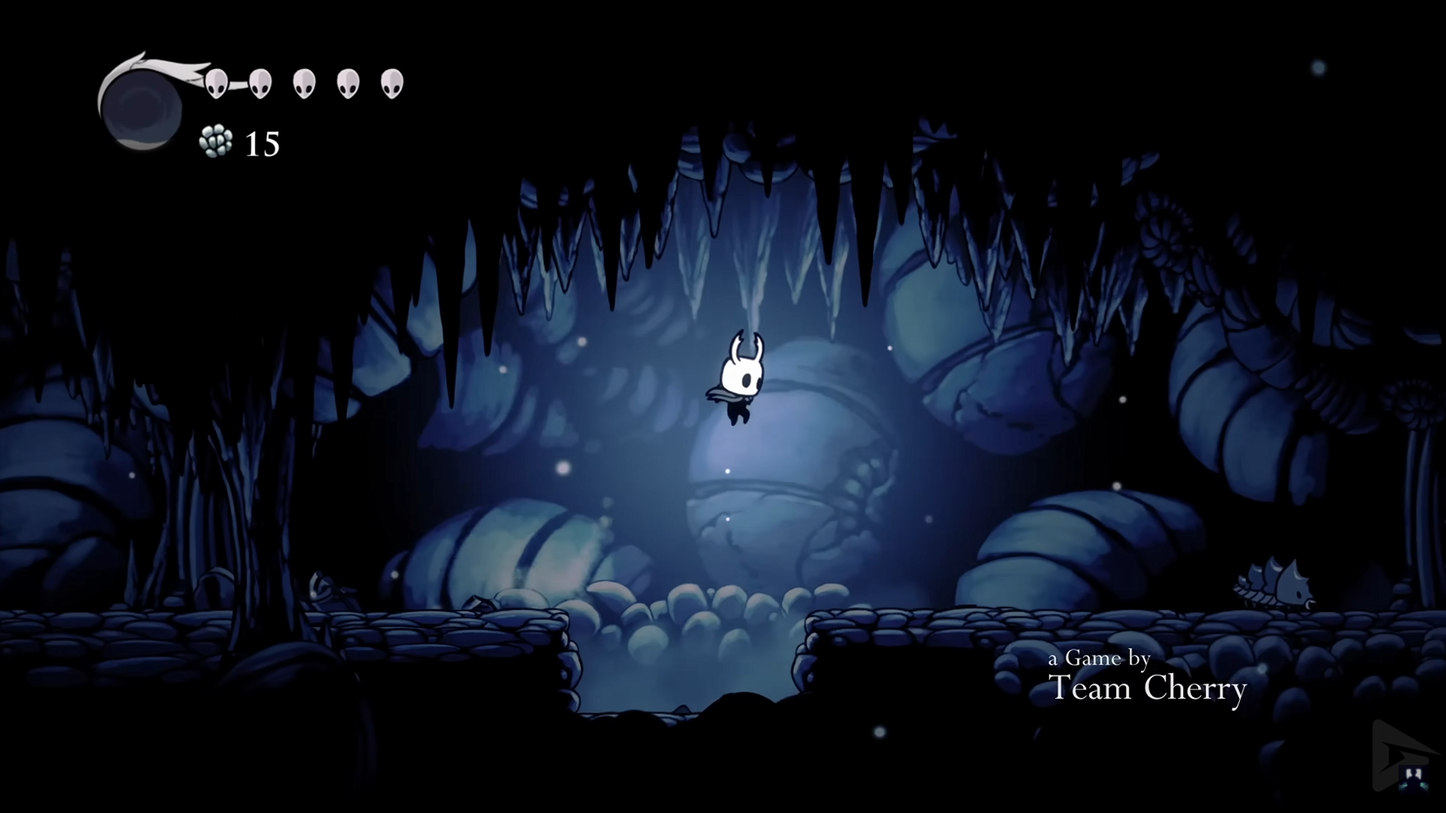HK: (707, 327, 772, 430)
